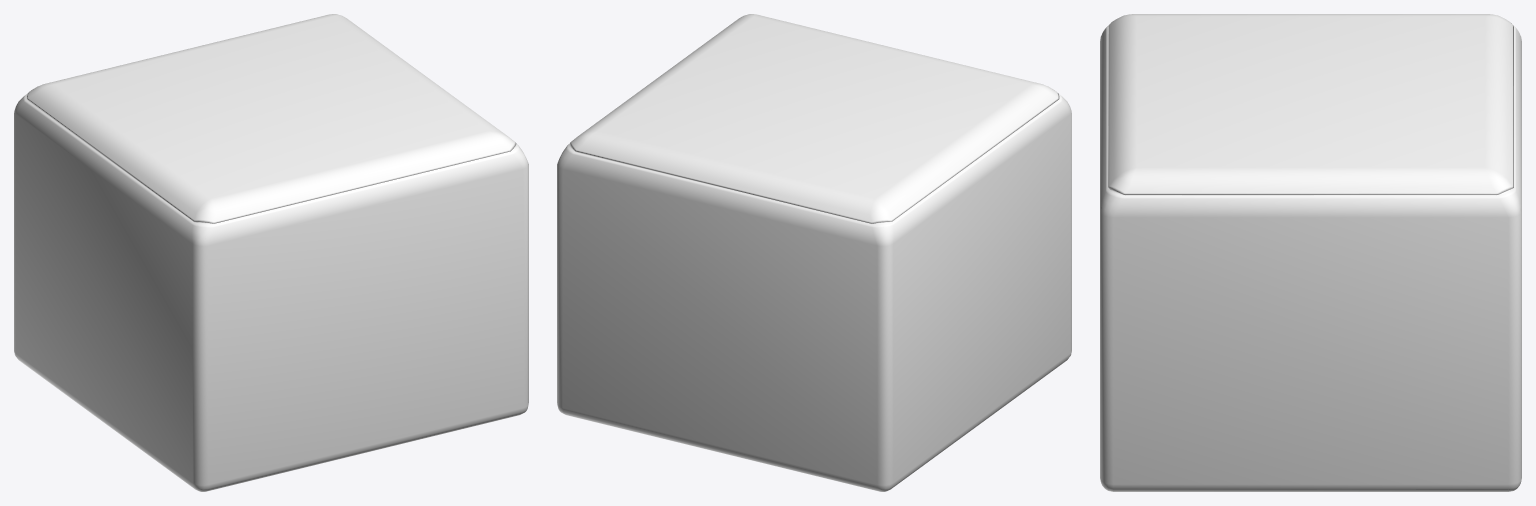
File: Pouffee2.fbx
The picture shows the model from 3 angles, left to right: view 1: azimuth 30°, elevation 25°; view 2: azimuth 150°, elevation 25°; view 3: azimuth 270°, elevation 25°; orthographic projection. The views are drawn at different scales.
Parts seen in each view (by area): view 1: Pouffee2; view 2: Pouffee2; view 3: Pouffee2.
Part boxes in pixels (<box>): Pouffee2: <box>14,14,528,491</box>; Pouffee2: <box>557,14,1071,491</box>; Pouffee2: <box>1100,14,1521,491</box>.
Bounding box in the file's own units: 0.8435 × 0.6749 × 0.824.
